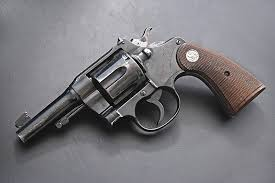revolver: (13, 23, 268, 151)
